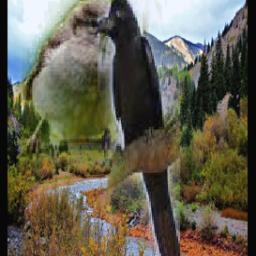Crow: (98, 0, 180, 256)
Sparrow: (21, 0, 140, 162)
